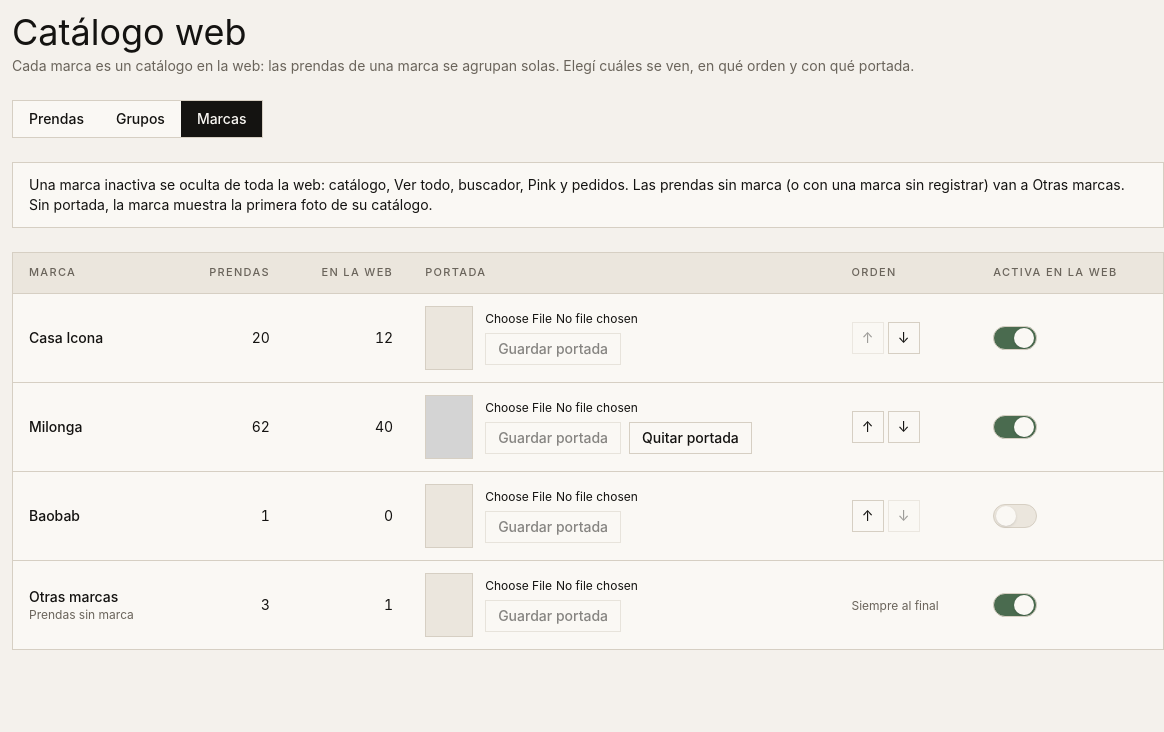
Test case: BrandsView › shows the refusal of an action next to the brand
The width and height of the screenshot is (1164, 732).
Click the switch named "Activa en la web: Casa Icona".
click(1015, 338)  # box [993,326,1037,350]
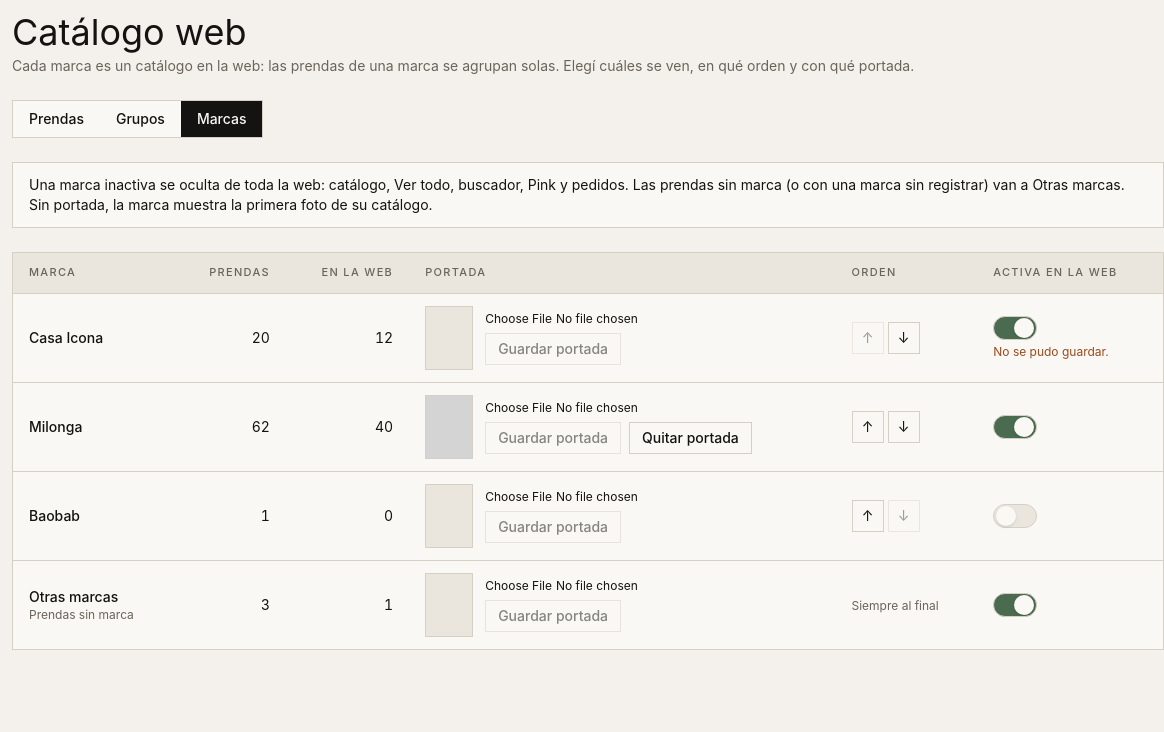
Expected: the message reads "No se pudo guardar.", [993,344,1109,359]
